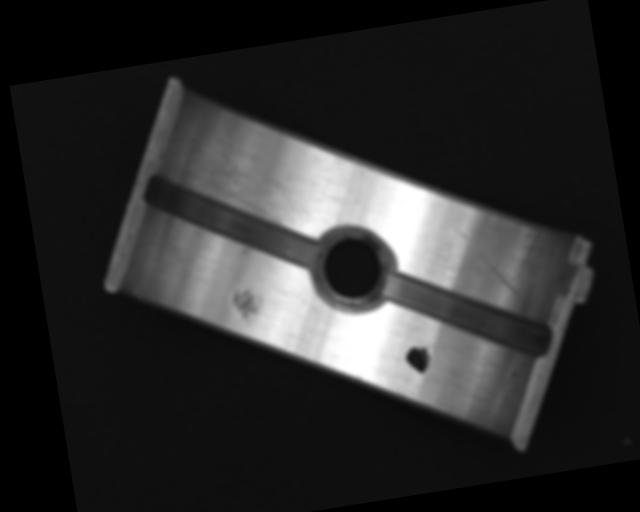blot: (403, 343, 433, 376)
bruise: (229, 285, 263, 329)
gap: (142, 151, 321, 294), (381, 252, 553, 380)
hole: (310, 219, 396, 317)
nick: (455, 218, 520, 308)
scratch: (169, 118, 312, 241)
